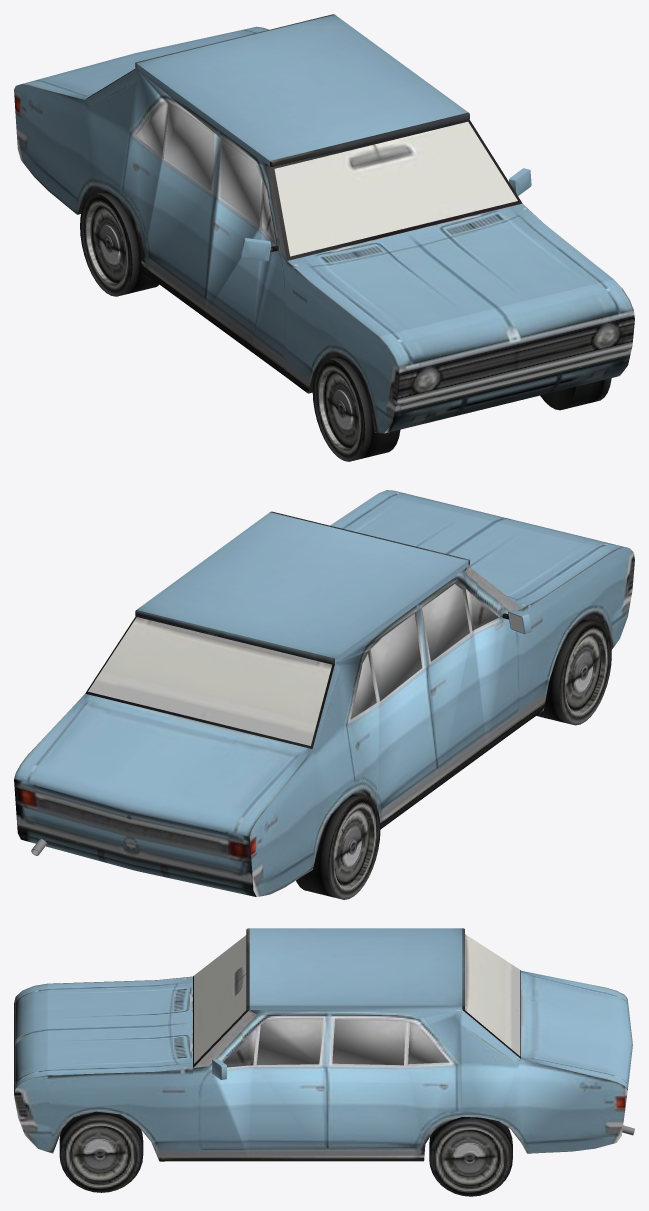
Rendered from old_soviet_car__psx_style__low_poly.glb.
The picture shows the model from 3 angles, top to bottom: view 1: azimuth 30°, elevation 25°; view 2: azimuth 150°, elevation 25°; view 3: azimuth 270°, elevation 25°; orthographic projection. The views are drawn at different scales.
Visible parts, largest first — view 1: Car, Wheel2, Wheel4, Wheel1; view 2: Car, Wheel4, Wheel2; view 3: Car, Wheel1, Wheel3.
Part boxes in pixels (x1=…): Car: x1=14, y1=14, x2=634, y2=433; Wheel2: x1=312, y1=356, x2=400, y2=461; Wheel4: x1=80, y1=191, x2=159, y2=296; Wheel1: x1=540, y1=378, x2=611, y2=410; Car: x1=14, y1=490, x2=634, y2=896; Wheel4: x1=296, y1=794, x2=380, y2=899; Wheel2: x1=536, y1=619, x2=611, y2=725; Car: x1=14, y1=928, x2=634, y2=1161; Wheel1: x1=59, y1=1111, x2=143, y2=1192; Wheel3: x1=429, y1=1117, x2=512, y2=1196.
Size of the model in its own units: 3.35 by 2.52 by 7.81.
15 materials, 15 textured.
